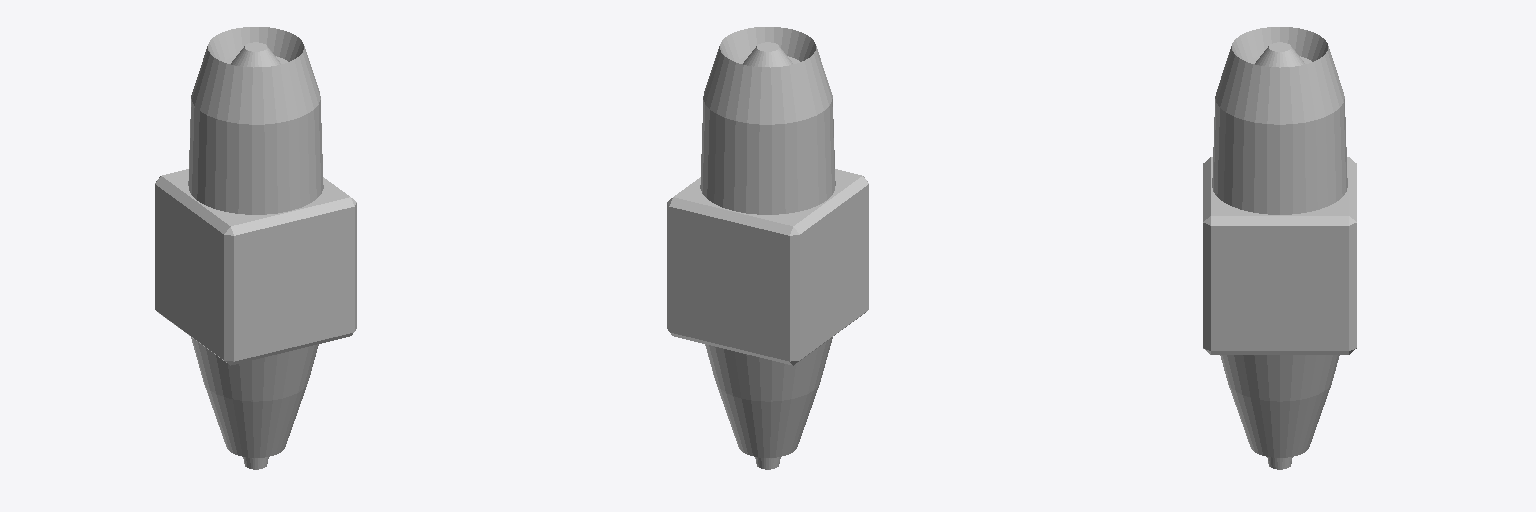
The model's file is thruster_module.obj.
3 renders of one model, left to right at view 1: azimuth 30°, elevation 25°; view 2: azimuth 150°, elevation 25°; view 3: azimuth 270°, elevation 25°, orthographic.
Parts seen in each view (by area): view 1: Cylinder, Cube, Cylinder.001; view 2: Cylinder, Cube, Cylinder.001; view 3: Cylinder, Cube, Cylinder.001.
Part boxes in pixels (bbox=[...]): Cylinder: bbox=[188, 27, 323, 457]; Cube: bbox=[155, 169, 356, 365]; Cylinder.001: bbox=[231, 42, 280, 469]; Cylinder: bbox=[700, 27, 835, 457]; Cube: bbox=[667, 169, 868, 365]; Cylinder.001: bbox=[743, 42, 792, 469]; Cylinder: bbox=[1212, 27, 1347, 457]; Cube: bbox=[1203, 157, 1356, 354]; Cylinder.001: bbox=[1255, 42, 1304, 469].
Size of the model in its own units: 2 by 6 by 2.